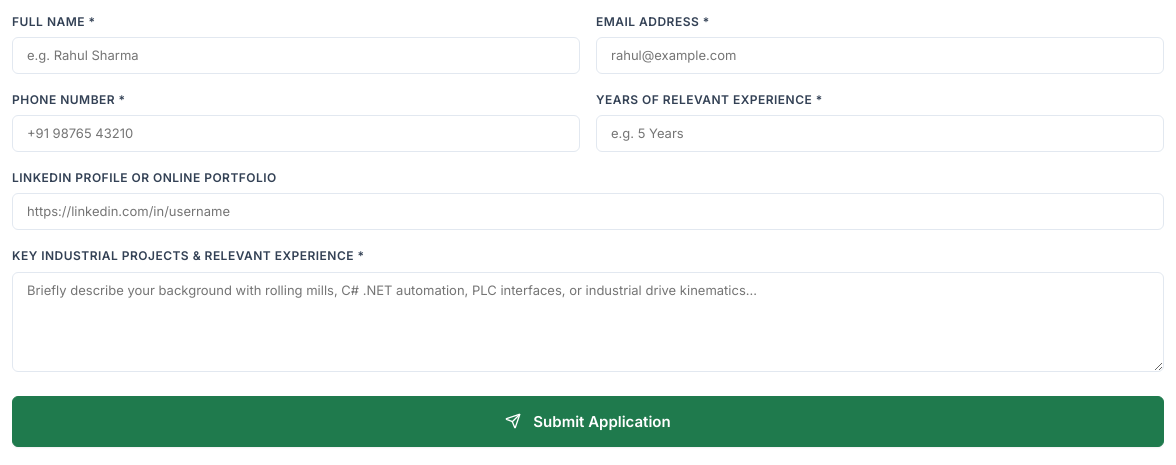
Test: JobApplicationForm › shows success state after successful API response
The width and height of the screenshot is (1176, 465).
In the field labelled "Full Name *": (296, 56) x1=12 y1=37 x2=580 y2=74, type "Rahul Sharma"
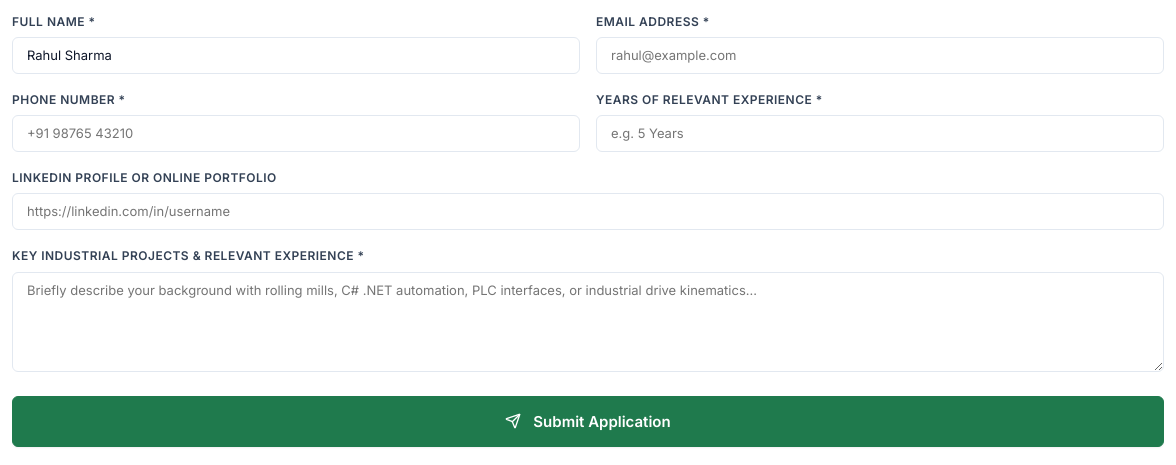
In the field labelled "Email Address *": (880, 56) x1=596 y1=37 x2=1164 y2=74, type "rahul@plant.com"
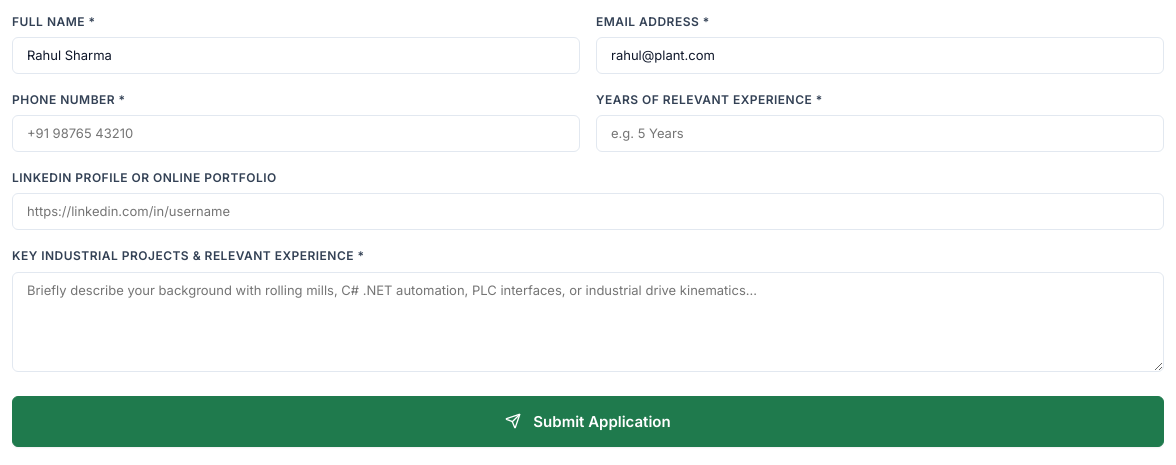
In the field labelled "Phone Number *": (296, 134) x1=12 y1=115 x2=580 y2=152, type "+91 9876543210"
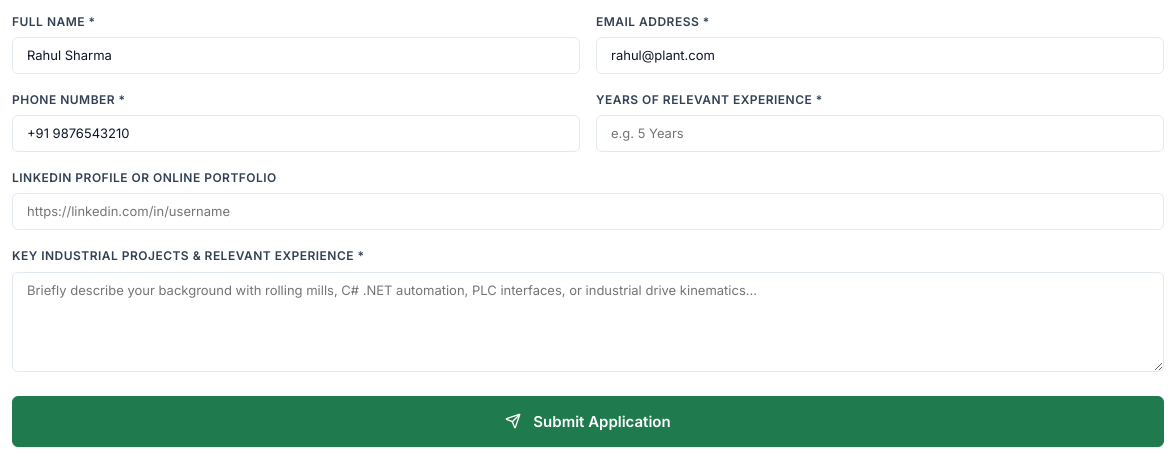
In the field labelled "Years of Relevant Experience *": (880, 134) x1=596 y1=115 x2=1164 y2=152, type "5 Years"
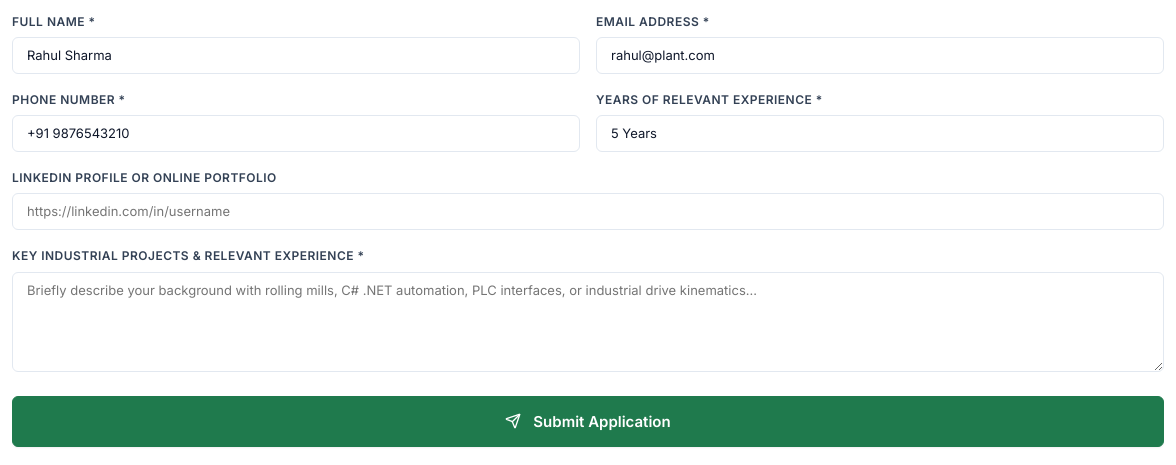
Replace the text in the text box labelled "Key Industrial Projects & Relevant Experience *" with "Worked on 16-stand bar mill automation with Siemens S7-400 PLCs and C# SCADA.": (588, 322) x1=12 y1=272 x2=1164 y2=372
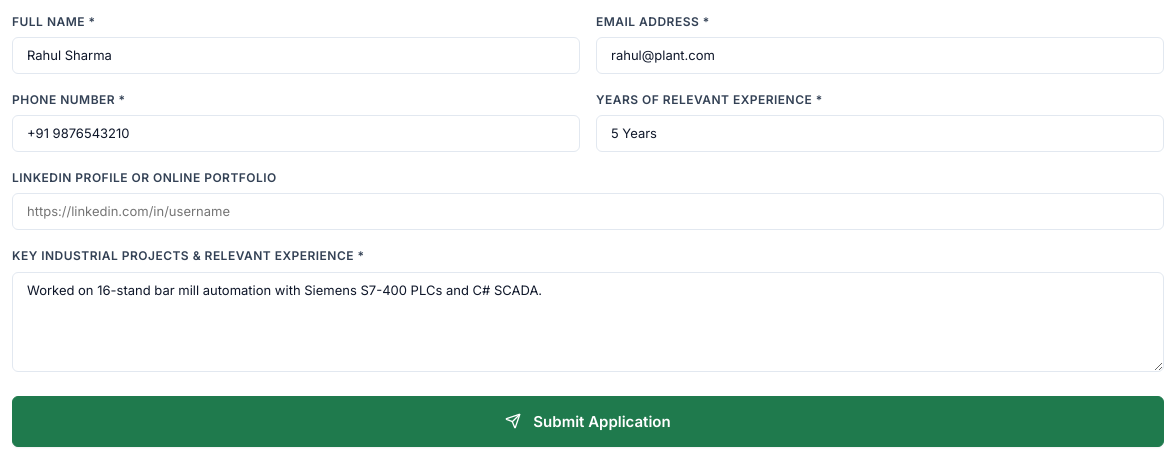
Click the button "Submit Application": (588, 421) x1=12 y1=396 x2=1164 y2=447
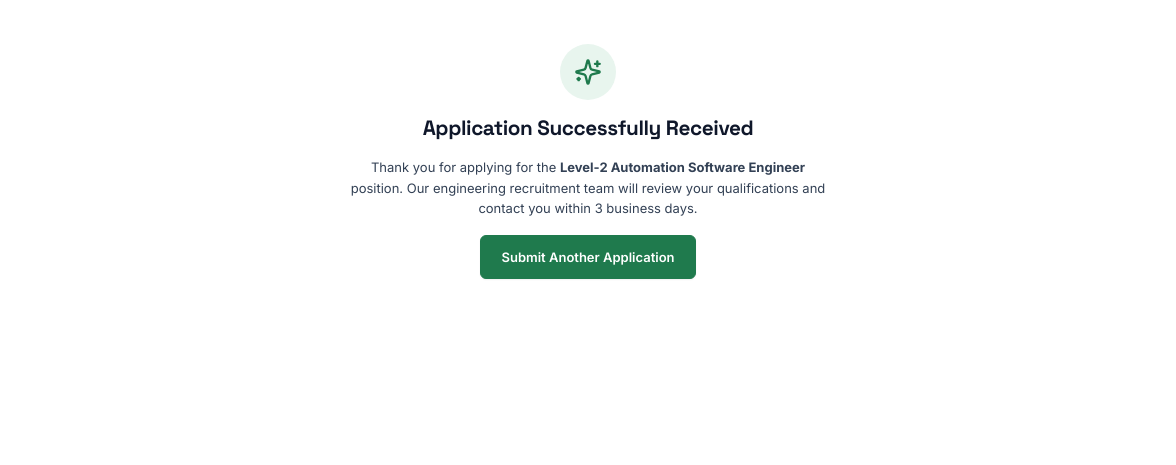
Result: the heading "Application Successfully Received" is shown at x1=423 y1=116 x2=753 y2=141
Result: the text "Level-2 Automation Software Engineer" is shown at x1=560 y1=159 x2=805 y2=175
